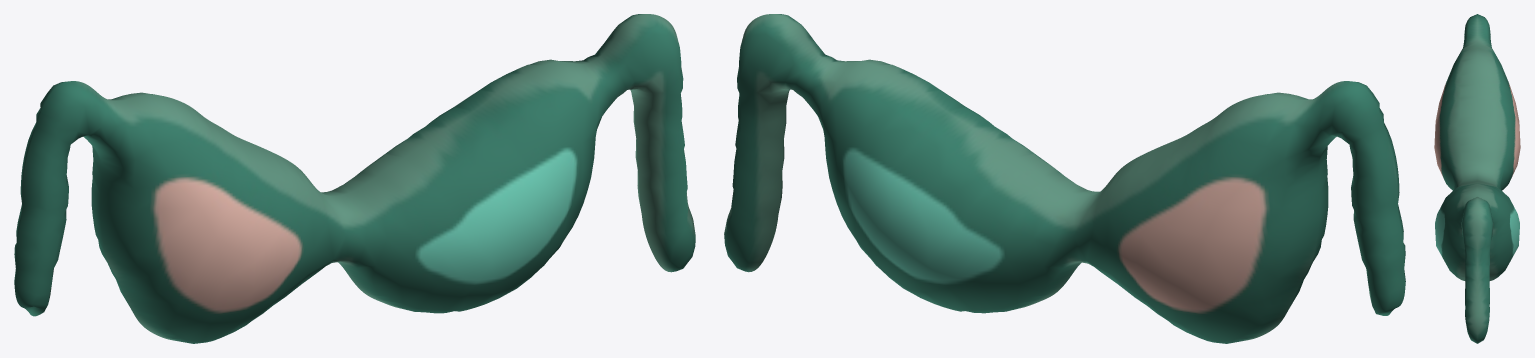
Rendered from GreenAnim.glb.
3 views of the same model, side by side, from view 1: azimuth 30°, elevation 25°; view 2: azimuth 150°, elevation 25°; view 3: azimuth 270°, elevation 25° (orthographic). The views are drawn at different scales.
Size of the model in its own units: 2.51 by 1.19 by 0.5329.
Materials: 1 (1 with a texture image).
